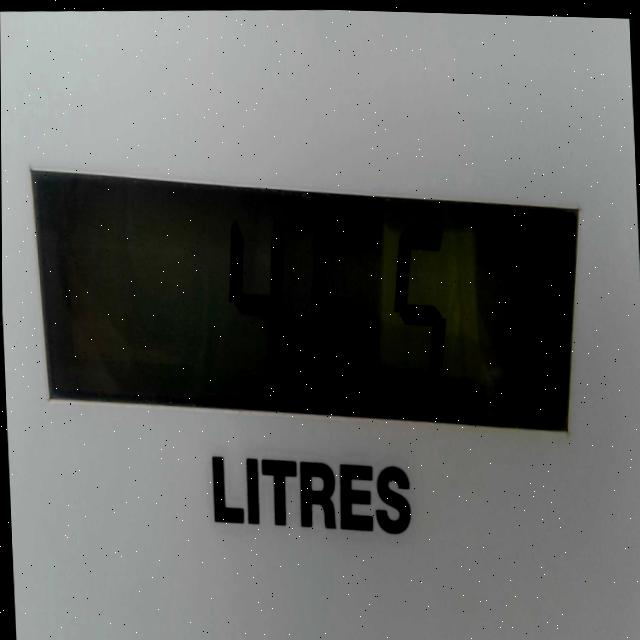.: (369, 365, 382, 388)
4: (226, 218, 288, 384)
5: (382, 222, 454, 407)
6: (301, 218, 368, 389)
7: (487, 225, 540, 398)
